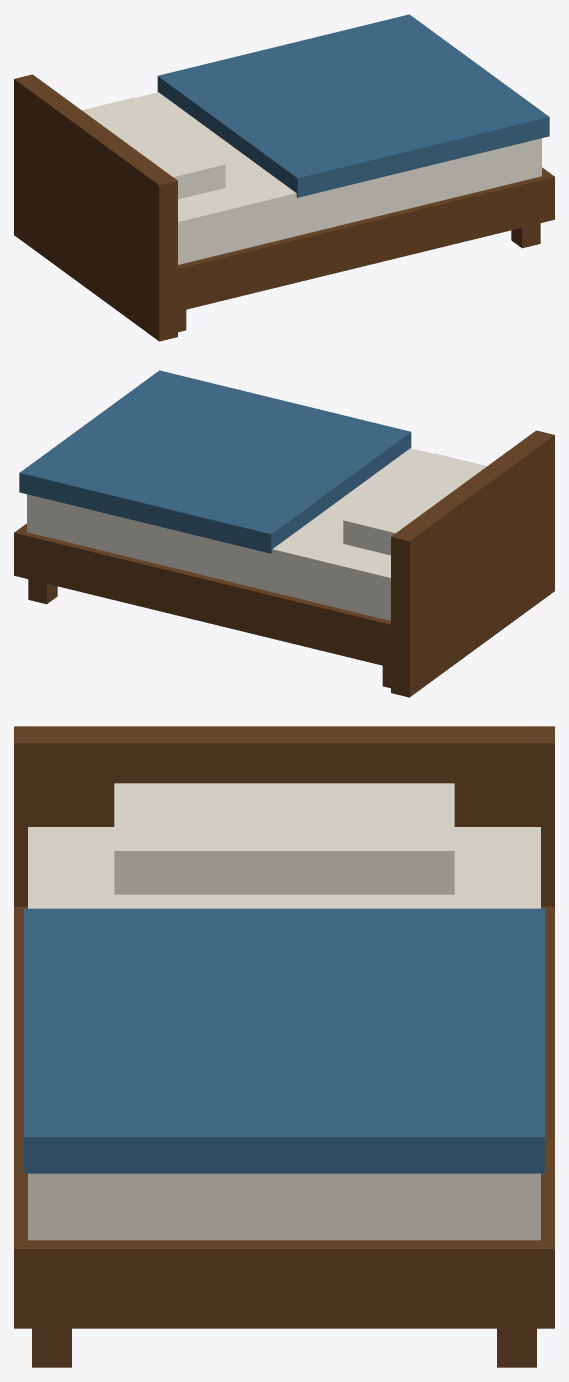
The model's file is mod_bed.glb.
3 renders of one model, top to bottom at view 1: azimuth 30°, elevation 25°; view 2: azimuth 150°, elevation 25°; view 3: azimuth 270°, elevation 25°, orthographic. The views are drawn at different scales.
Visible parts, largest first — view 1: Mod_Bed; view 2: Mod_Bed; view 3: Mod_Bed.
Boxes of the visible parts, x1,y1,x2,y2 form: Mod_Bed: [14, 14, 554, 341]; Mod_Bed: [14, 370, 554, 697]; Mod_Bed: [14, 726, 554, 1367].
Bounding box in the file's own units: 2.12 × 0.8 × 1.35.
